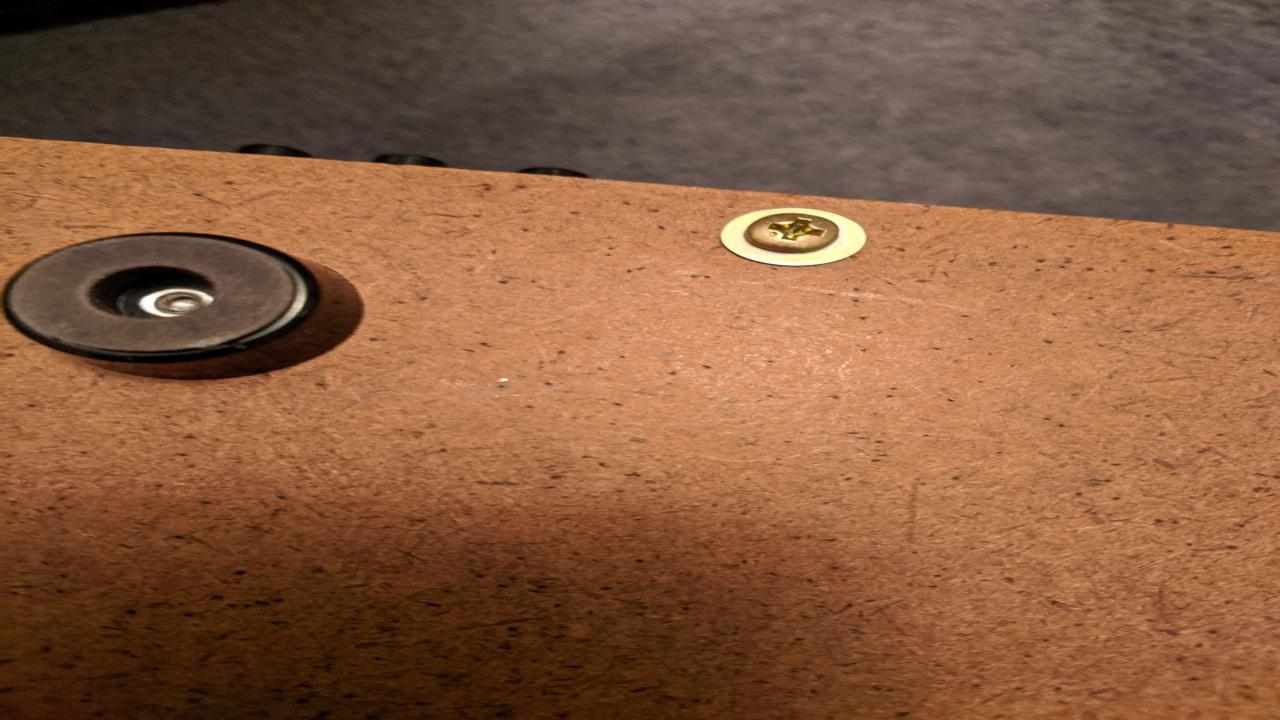CRS: (740, 212, 844, 253)
